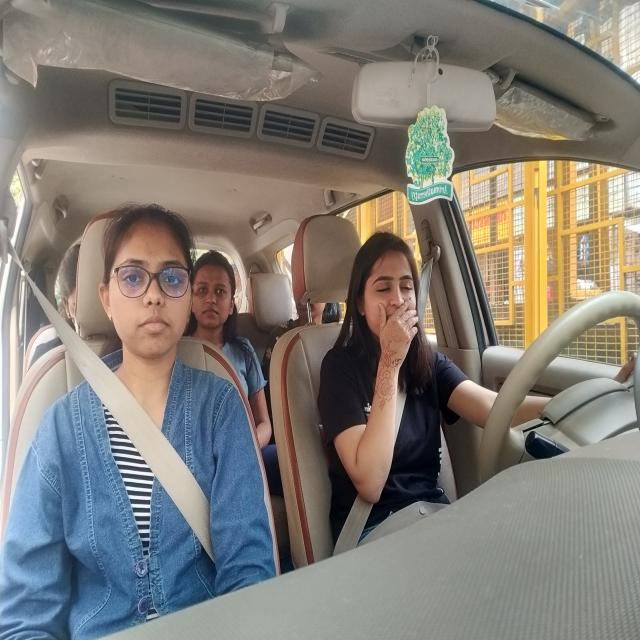drowsy: (348, 228, 424, 357)
person: (96, 202, 193, 360), (192, 248, 235, 332), (56, 244, 85, 334)
